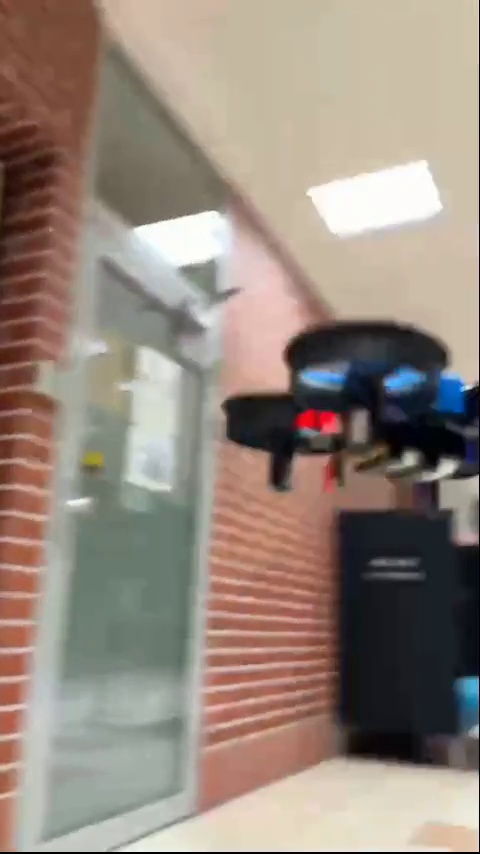drone: (223, 324, 480, 490)
